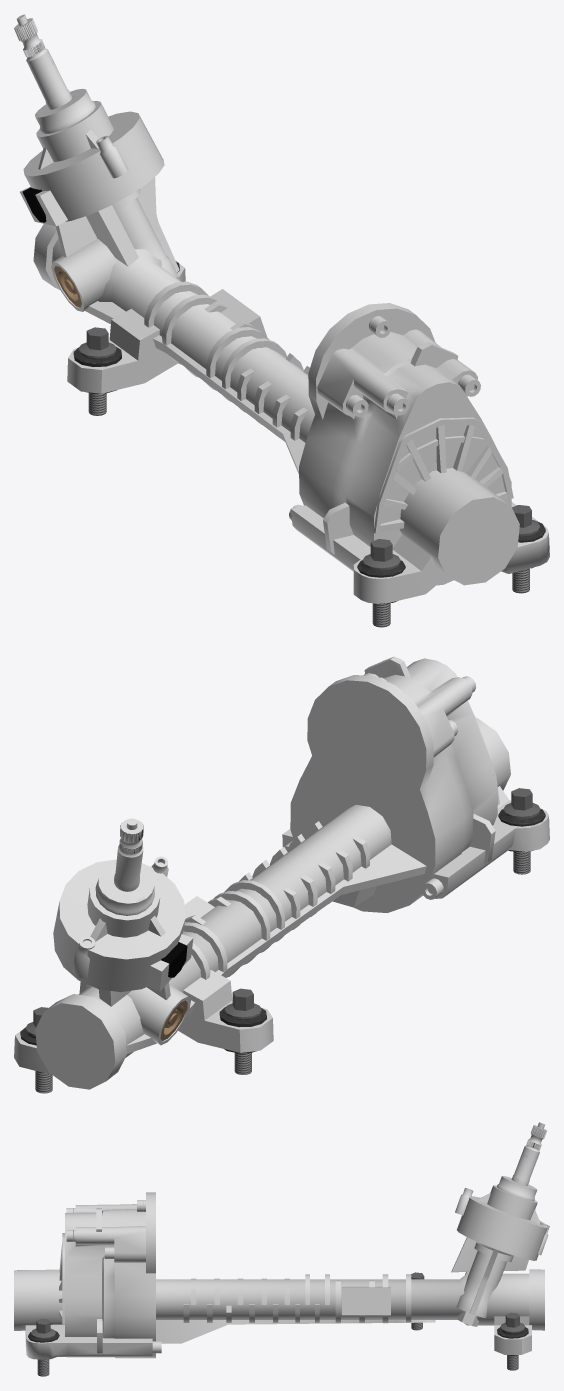
File: E5_转向系统_转向器.FBX
3 renders of one model, top to bottom at view 1: azimuth 30°, elevation 25°; view 2: azimuth 150°, elevation 25°; view 3: azimuth 270°, elevation 25°, orthographic. The views are drawn at different scales.
Parts seen in each view (by area): view 1: ZXQ, ZXQ_LS; view 2: ZXQ, ZXQ_LS; view 3: ZXQ, ZXQ_LS.
Boxes of the visible parts, box(x1,y1,x2,y2) form: ZXQ: box(14, 14, 549, 603); ZXQ_LS: box(78, 327, 540, 627); ZXQ: box(14, 656, 549, 1089); ZXQ_LS: box(25, 788, 540, 1093); ZXQ: box(14, 1122, 549, 1359); ZXQ_LS: box(31, 1272, 525, 1376).
Bounding box in the file's own units: 15.51 × 25.2 × 57.32.
